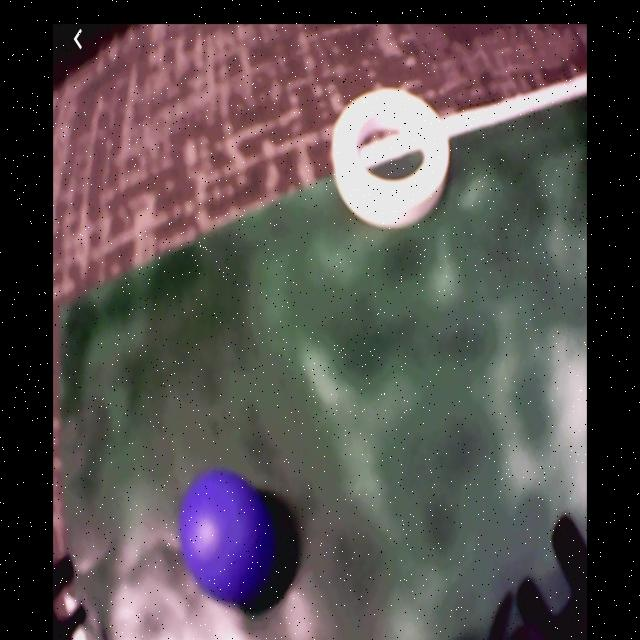ball: (183, 471, 271, 610)
